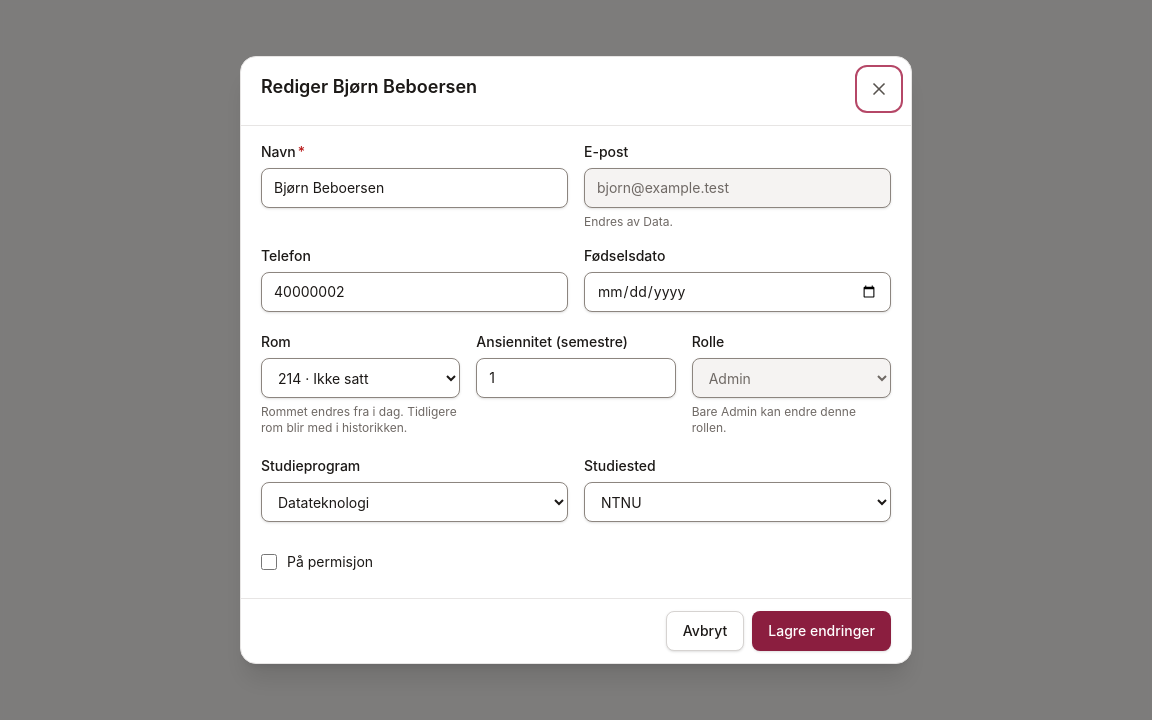
Scenario: EditResidentSheet › shows the server message when the save is refused
Check: the dropdown labelled "Rolle" is disabled, box [692,358,891,398]
Click the button "Lagre endringer" at (822, 631), box [752,611,891,651]
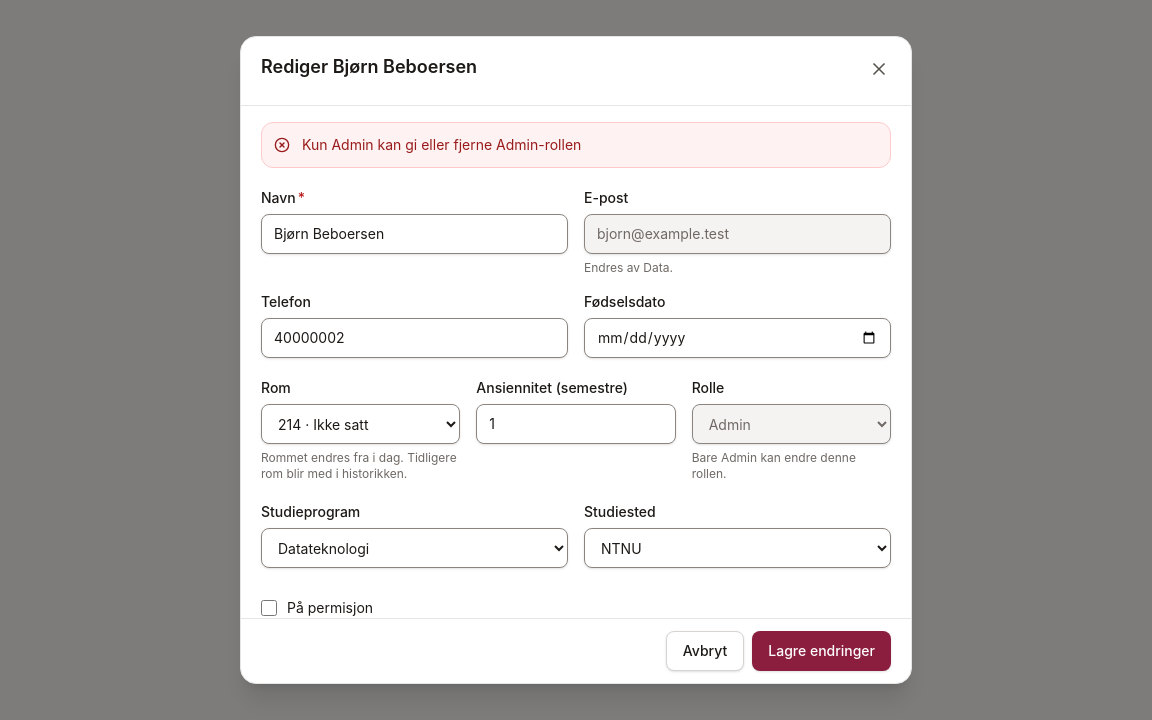
Check: the text "Kun Admin kan gi eller fjerne Admin-rollen" is shown, box [302,136,581,153]
